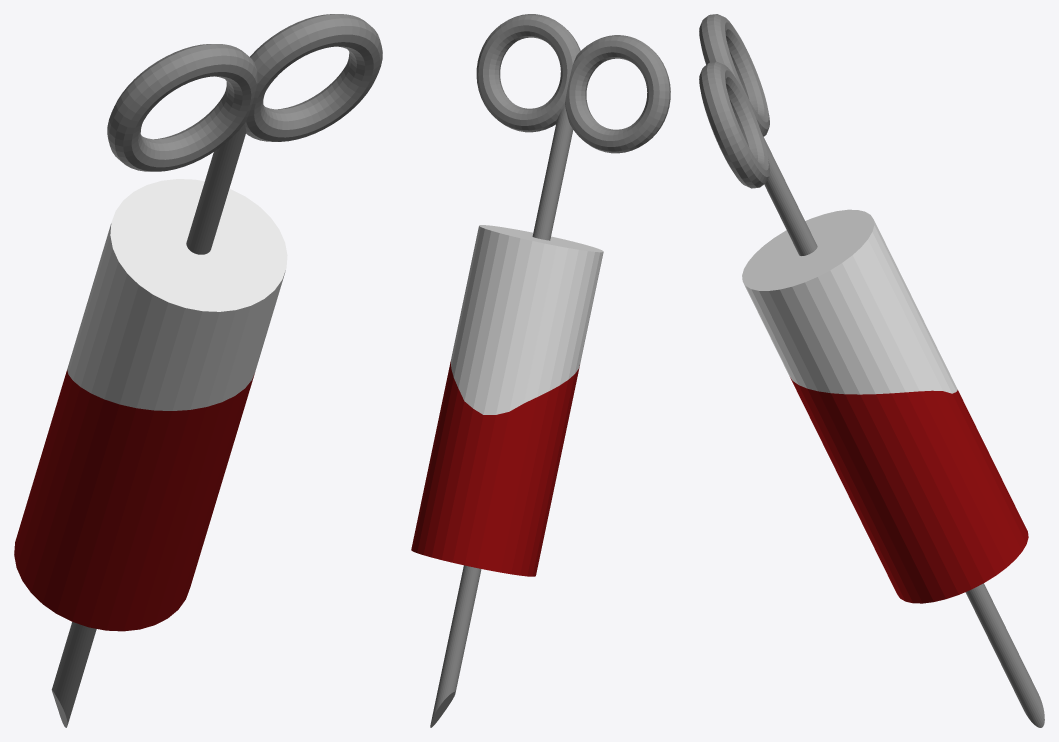
Rendered from Syringe.glb.
3 renders of one model, left to right at view 1: azimuth 30°, elevation 25°; view 2: azimuth 150°, elevation 25°; view 3: azimuth 270°, elevation 25°, orthographic. The views are drawn at different scales.
Parts seen in each view (by area): view 1: Syringe; view 2: Syringe; view 3: Syringe.
Part boxes in pixels (x1,y1,x2,y2): Syringe: (14,14,382,727); Syringe: (411,14,670,727); Syringe: (699,14,1044,727).
Size of the model in its own units: 0.9911 by 2.99 by 1.38.
